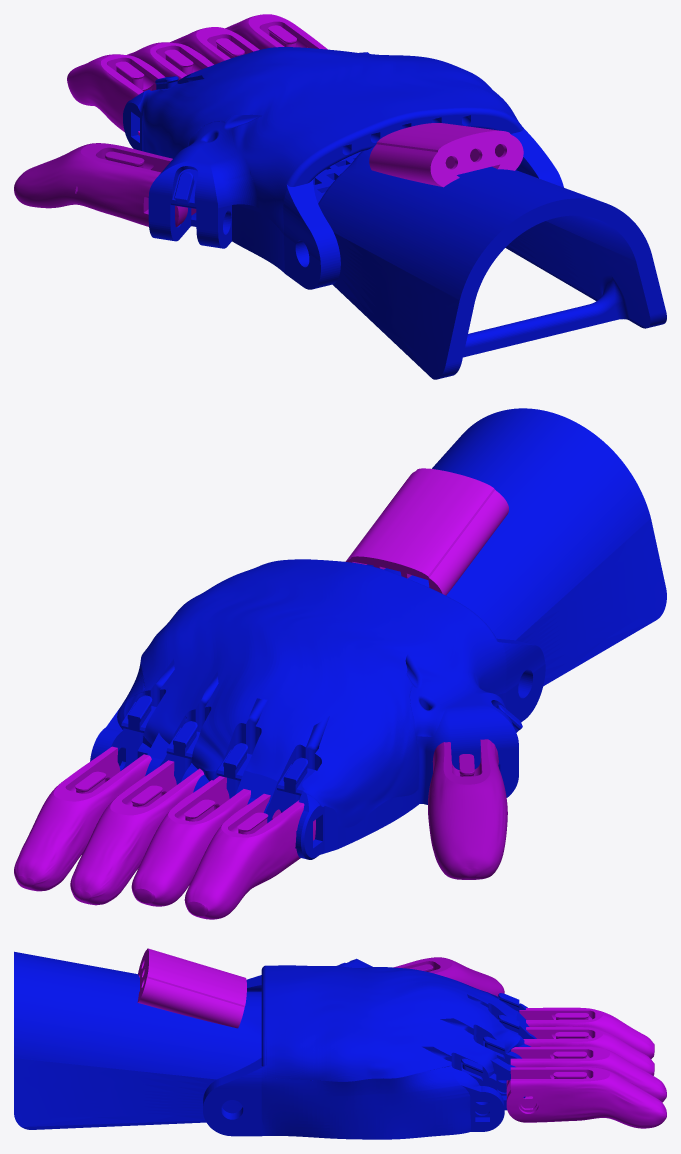
File: 3D Hand model small.glb
The picture shows the model from 3 angles, top to bottom: view 1: azimuth 30°, elevation 25°; view 2: azimuth 150°, elevation 25°; view 3: azimuth 270°, elevation 25°; orthographic projection. The views are drawn at different scales.
Parts seen in each view (by area): view 1: Palm, Arm_guard, Fingers, Thumb, Back_piece; view 2: Palm, Arm_guard, Fingers, Back_piece, Thumb; view 3: Palm, Arm_guard, Fingers, Back_piece, Thumb.
Part boxes in pixels (x1,y1,x2,y2): Palm: (123, 47, 563, 289); Arm_guard: (315, 146, 666, 379); Fingers: (67, 14, 327, 135); Thumb: (14, 143, 196, 226); Back_piece: (369, 123, 523, 187); Palm: (90, 559, 545, 859); Arm_guard: (367, 408, 666, 685); Fingers: (14, 746, 315, 919); Back_piece: (345, 468, 508, 595); Thumb: (428, 739, 507, 879); Palm: (203, 958, 536, 1139); Arm_guard: (14, 951, 261, 1129); Fingers: (506, 1007, 666, 1128); Back_piece: (137, 948, 246, 1028); Thumb: (393, 957, 504, 996).
Size of the model in its own units: 0.0242 by 0.0104 by 0.0443.
